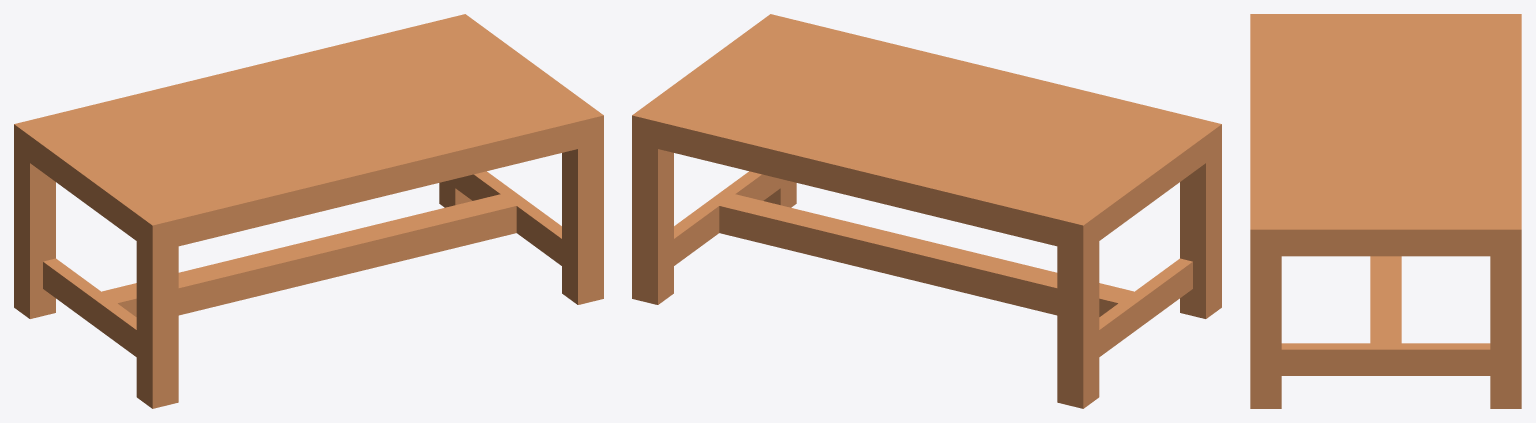
The model's file is table.glb.
The picture shows the model from 3 angles, left to right: view 1: azimuth 30°, elevation 25°; view 2: azimuth 150°, elevation 25°; view 3: azimuth 270°, elevation 25°; orthographic projection. The views are drawn at different scales.
Parts seen in each view (by area): view 1: table; view 2: table; view 3: table.
Boxes of the visible parts, x1,y1,x2,y2 form: table: (14, 14, 603, 408); table: (632, 14, 1221, 408); table: (1250, 14, 1521, 408).
Size of the model in its own units: 1.83 by 0.711 by 0.9736.
